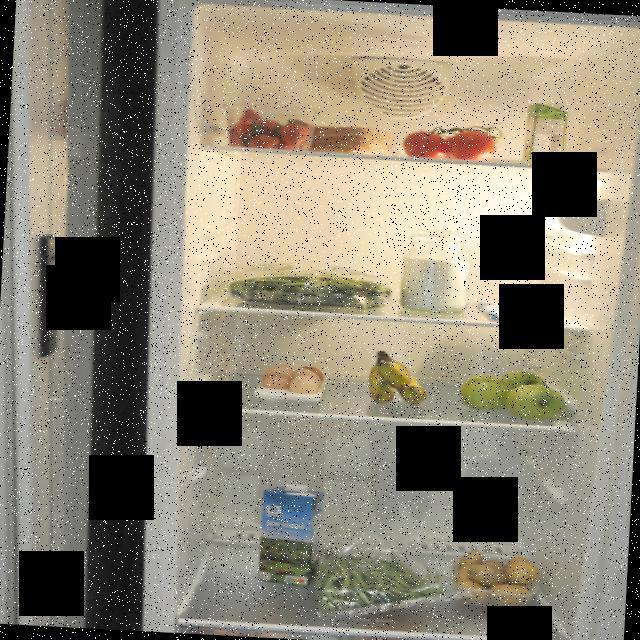apple: (458, 366, 570, 429)
banana: (364, 349, 434, 408)
bread: (308, 122, 397, 158)
chocolate: (479, 300, 561, 325)
eggs: (259, 360, 324, 402)
green_beans: (306, 543, 452, 617)
heavy_cream: (520, 98, 571, 169)
milk: (256, 481, 326, 587)
potato: (447, 544, 542, 618)
spinach: (214, 258, 384, 312)
strawberries: (222, 111, 318, 154)
sugar: (400, 225, 474, 316)
tomato: (399, 116, 502, 165)
